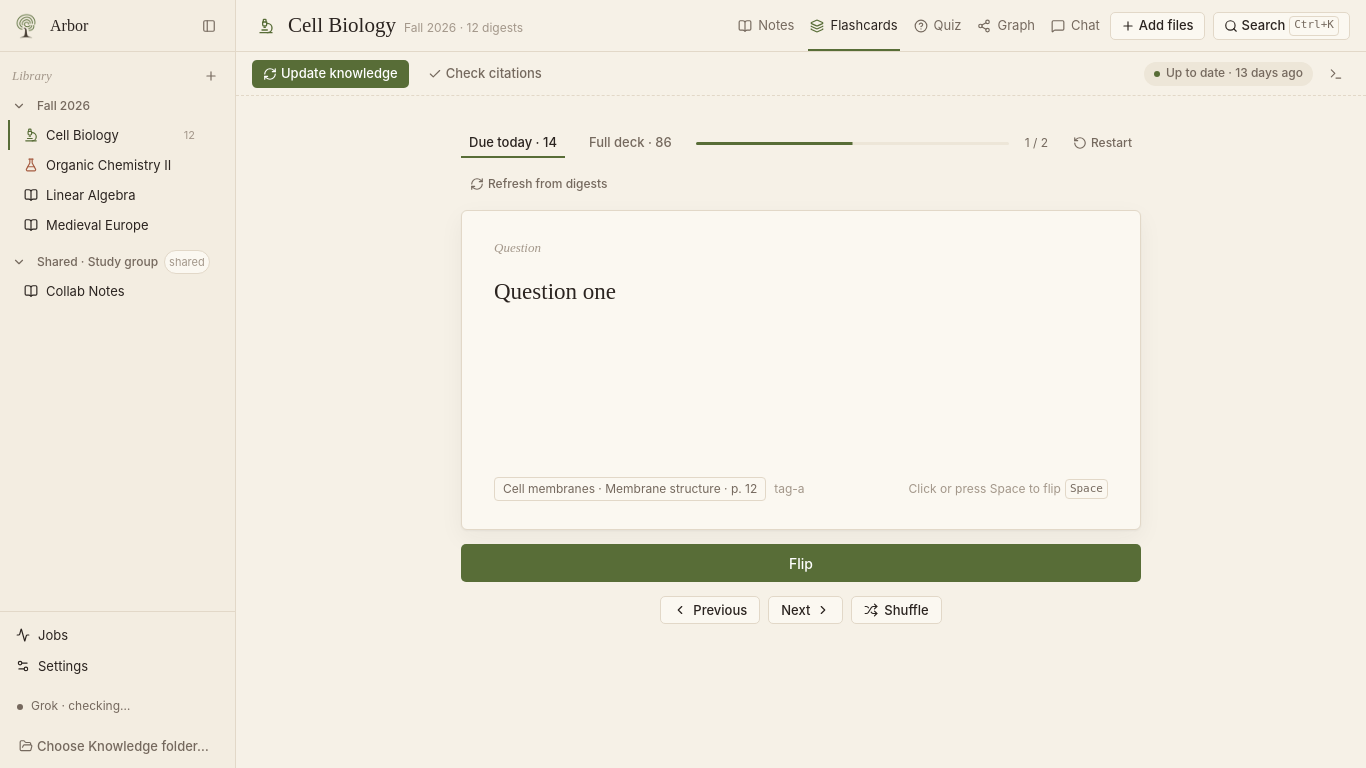
Test case: flashcards PR8 › toggles deck mode and rebuilds the session
This screenshot has width=1366, height=768.
Expected: the element with test id "flashcards-view" is shown, [461, 128, 1141, 624]
Expected: the tab "Due today · 14" is shown, [461, 128, 565, 158]
Click the tab "Full deck · 86".
click(630, 143)  # box [581, 128, 680, 158]
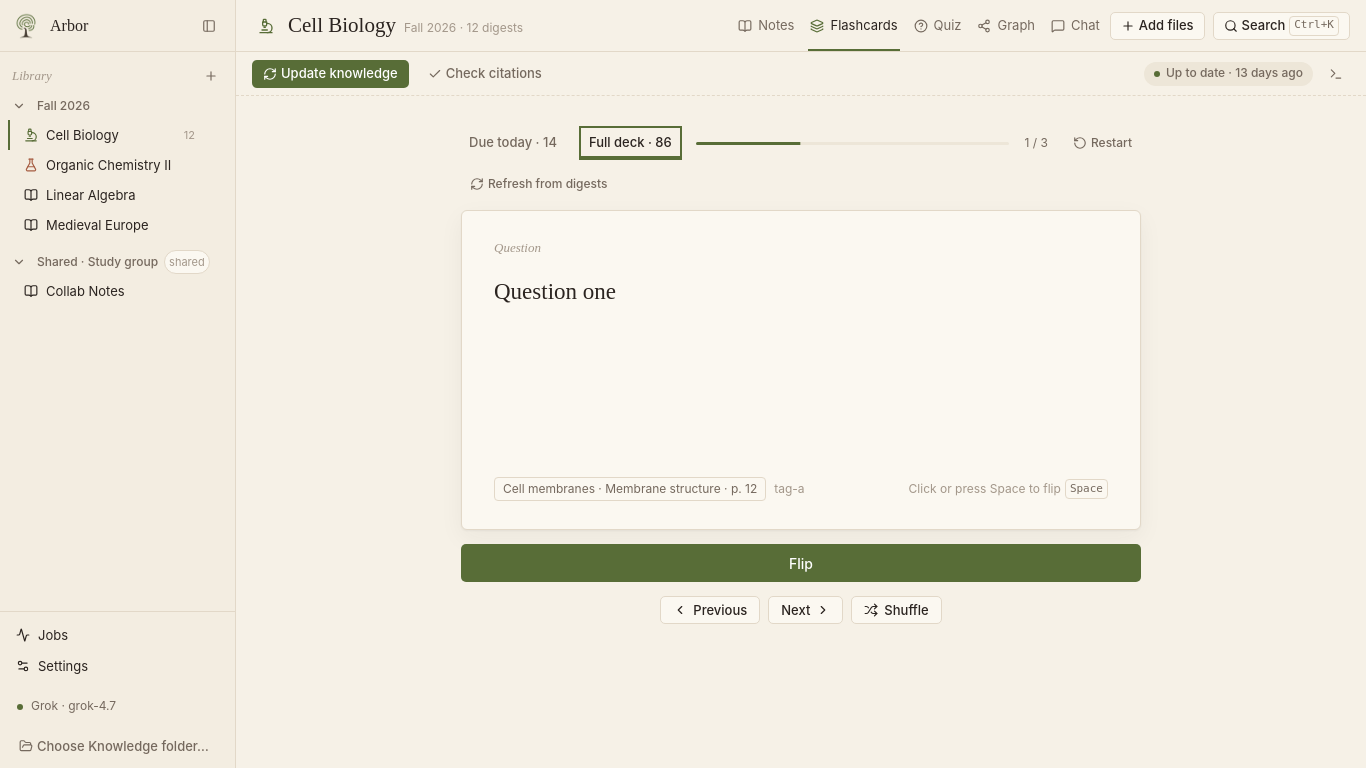
Result: the text "1 / 3" is shown at [1025, 135, 1048, 151]
